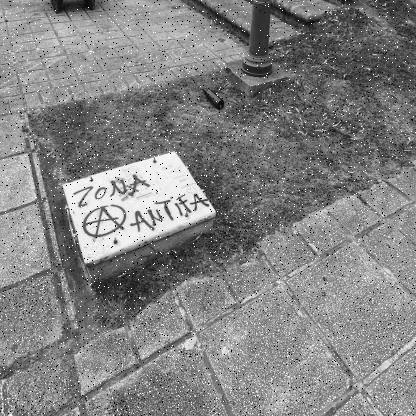glass: (202, 88, 224, 110)
